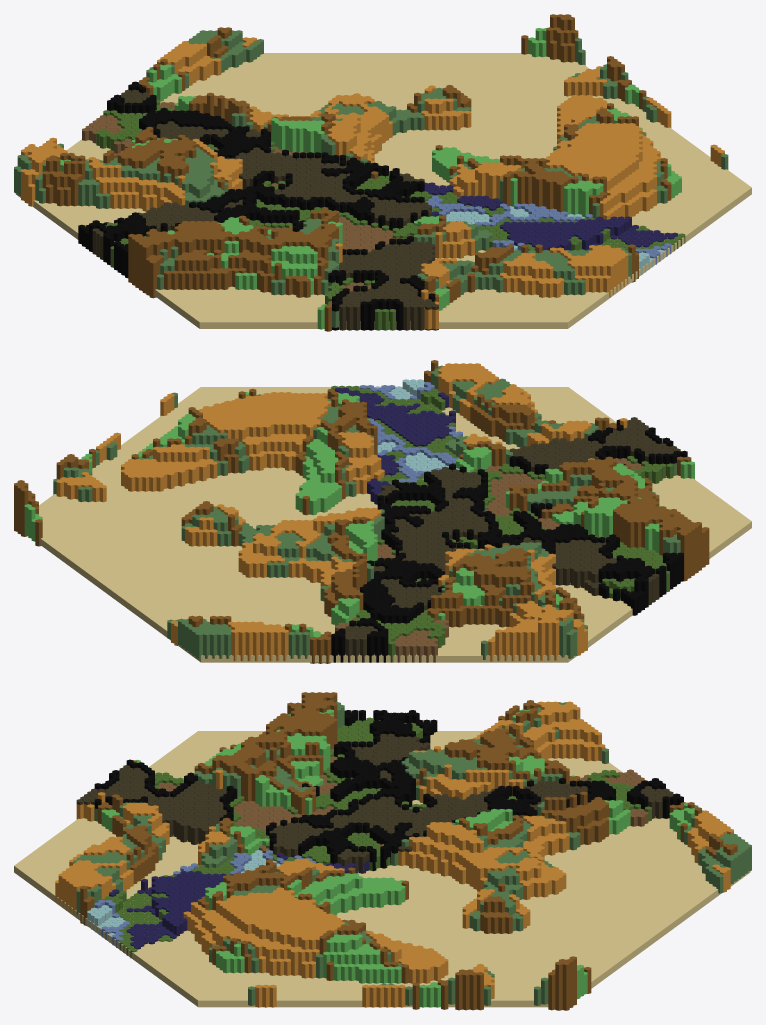
File: 0037_tile_1111220.fbx
3 renders of one model, top to bottom at view 1: azimuth 30°, elevation 25°; view 2: azimuth 150°, elevation 25°; view 3: azimuth 270°, elevation 25°, orthographic.
Parts seen in each view (by area): view 1: Plane; view 2: Plane; view 3: Plane.
Part boxes in pixels (x1,y1,x2,y2): Plane: (14,14,751,331); Plane: (14,360,751,663); Plane: (14,692,751,1010).
Size of the model in its own units: 1008 by 78.98 by 1152.
